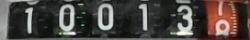digits: (209, 2, 235, 36), (96, 3, 114, 29), (176, 4, 193, 30), (58, 3, 74, 30), (138, 3, 148, 30), (24, 6, 33, 32)
